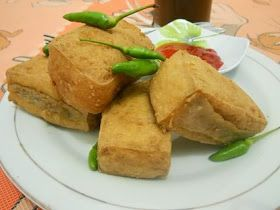Tahu: (159, 55, 269, 134), (83, 82, 174, 169), (55, 18, 150, 92), (12, 60, 82, 126)
